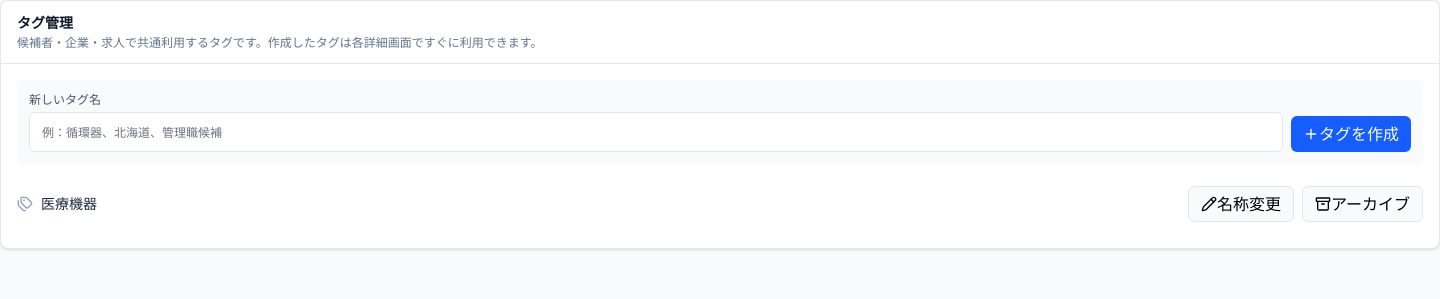
Test: TagManagementPanel › updates a shared tag name
Click the button with aria-label "医療機器を編集": x=1241, y=204 [1188,186,1294,222]
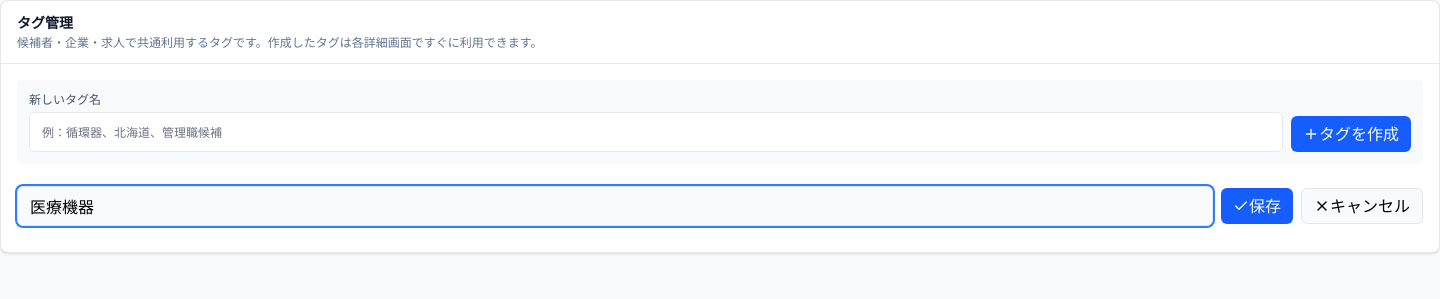
Replace the text in the field named "医療機器の新しいタグ名" with "循環器": x=615, y=206 [17,186,1213,226]
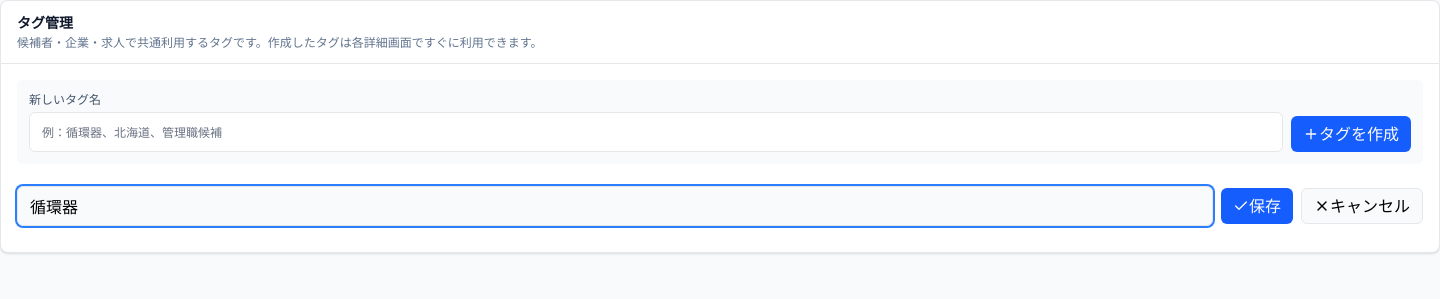
Click the button with aria-label "タグ名を保存": x=1257, y=206 [1221,188,1293,224]
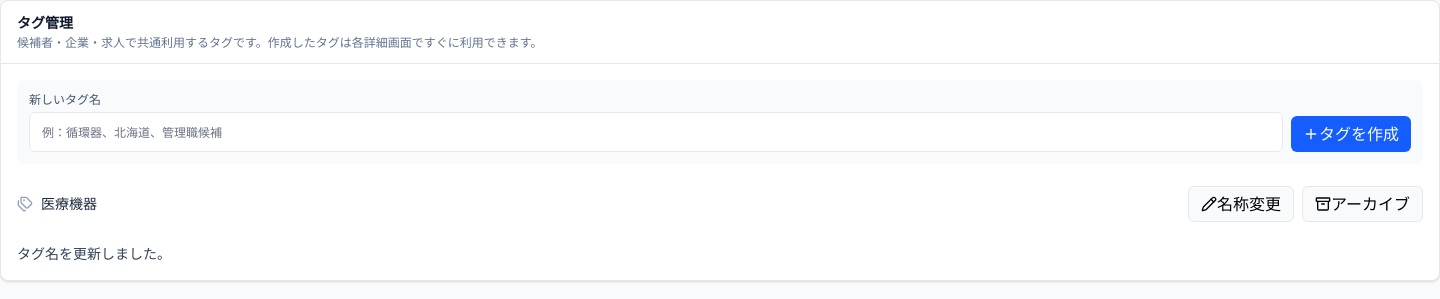
Expected: the text "タグ名を更新しました。" is shown, [17,245,171,262]
